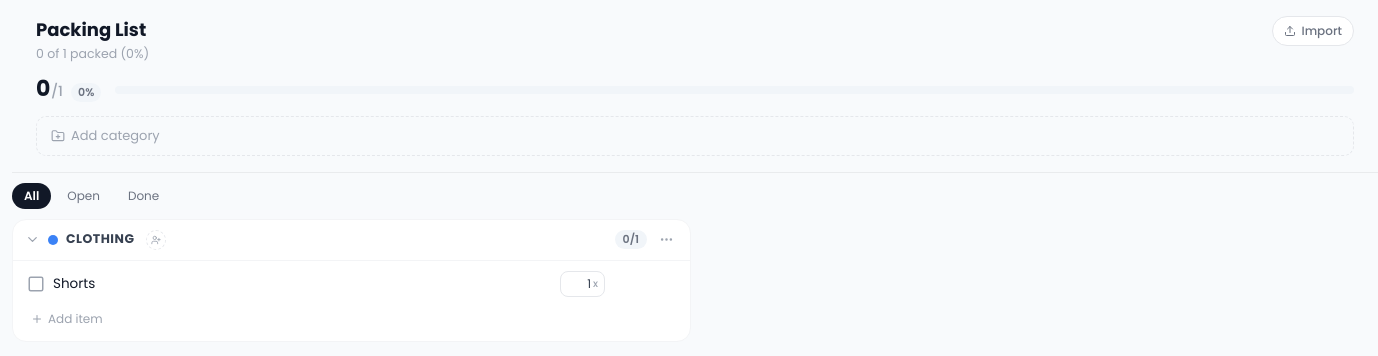
PackingListPanel › FE-COMP-PACKING-009: clicking Add item reveals input form
# Click "Add item" button to reveal input
Click the button "Add item" at coordinates (67, 319), box [21,305,113,333]
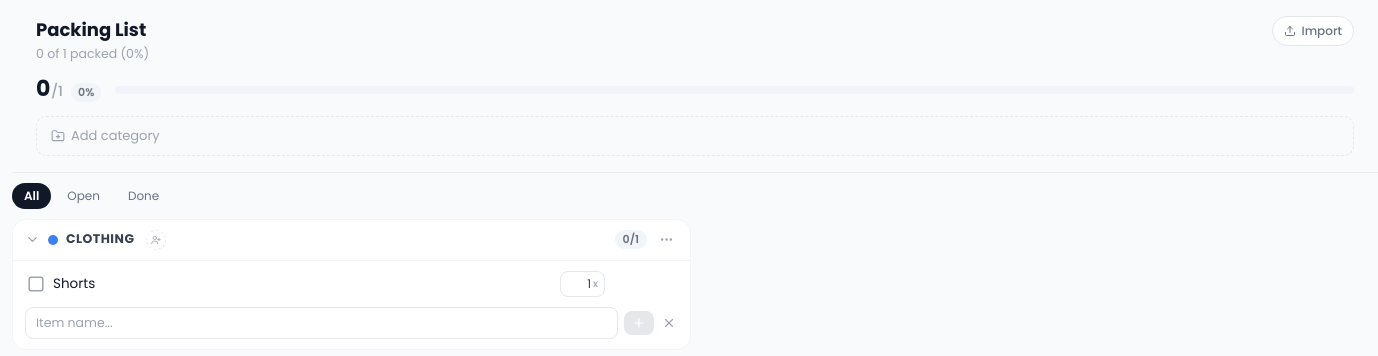
Expected: the field with placeholder "Item name..." is shown, [25,307,618,339]
